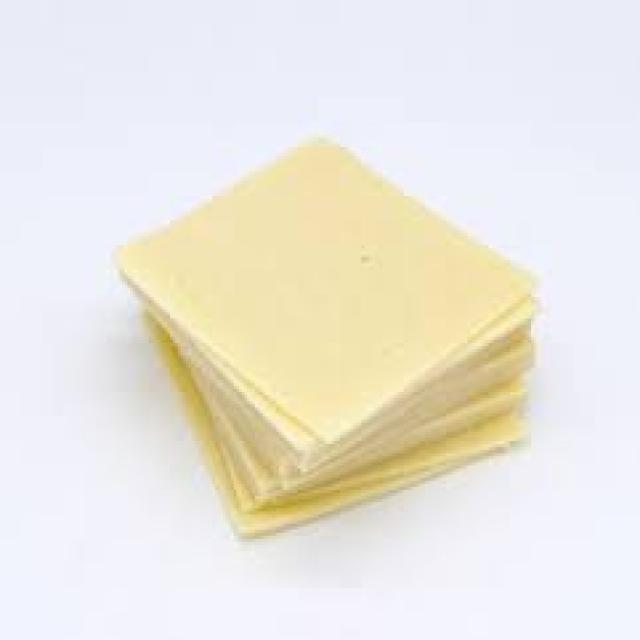slicecheese: (113, 137, 531, 540)
